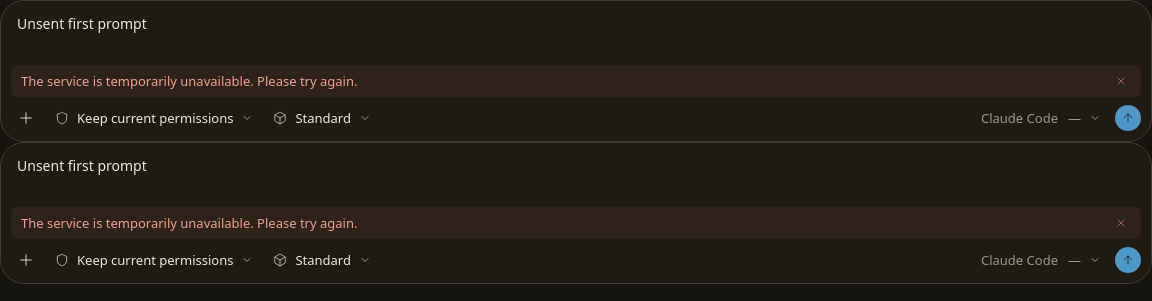
Test: keeps keystrokes out of session metadata and shares drafts across mounted composers
Replace the text in the 1st text box named "Describe the task to run…" with "A fast draft" at [576, 34], box [11,11,1141,57]
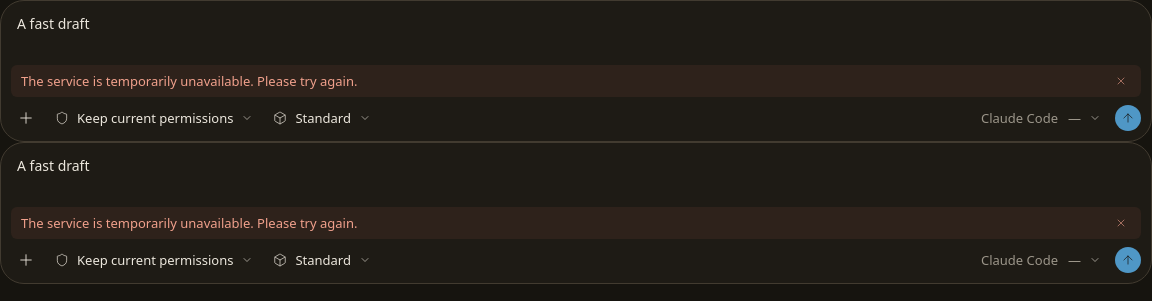
Expected: the 2nd text box named "Describe the task to run…" holds "A fast draft", [11,153,1141,199]
